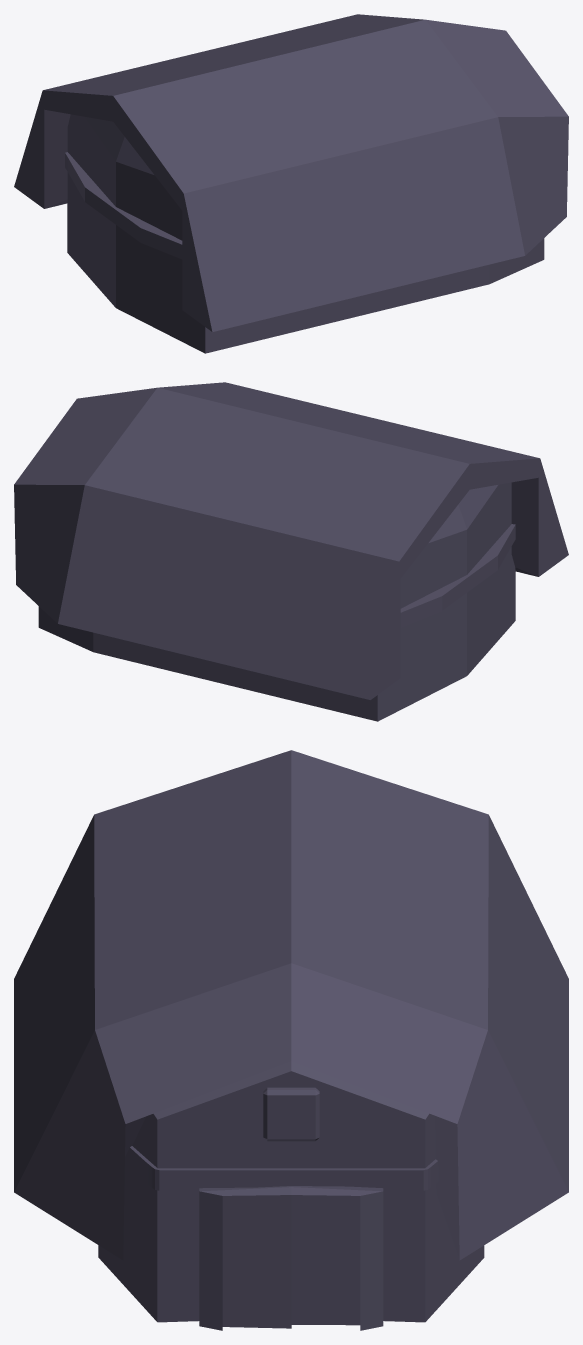
File: Barn.fbx
3 views of the same model, one above another, from view 1: azimuth 30°, elevation 25°; view 2: azimuth 150°, elevation 25°; view 3: azimuth 270°, elevation 25° (orthographic). The views are drawn at different scales.
Parts seen in each view (by area): view 1: pCube9, pCube8, pCube12; view 2: pCube9, pCube8, pCube12; view 3: pCube9, pCube8, pCube11, pCube12, pCube10.
Boxes of the visible parts, left/top/right/bottom form: pCube9: left=14, top=14, right=568, bottom=331; pCube8: left=67, top=114, right=544, bottom=353; pCube12: left=65, top=152, right=182, bottom=259; pCube9: left=14, top=382, right=568, bottom=699; pCube8: left=38, top=482, right=515, bottom=721; pCube12: left=400, top=524, right=515, bottom=627; pCube9: left=14, top=750, right=568, bottom=1260; pCube8: left=98, top=1061, right=484, bottom=1330; pCube11: left=222, top=1195, right=291, bottom=1328; pCube12: left=125, top=1146, right=438, bottom=1190; pCube10: left=263, top=1087, right=319, bottom=1141.
Size of the model in its own units: 4195 by 2239 by 3623.
